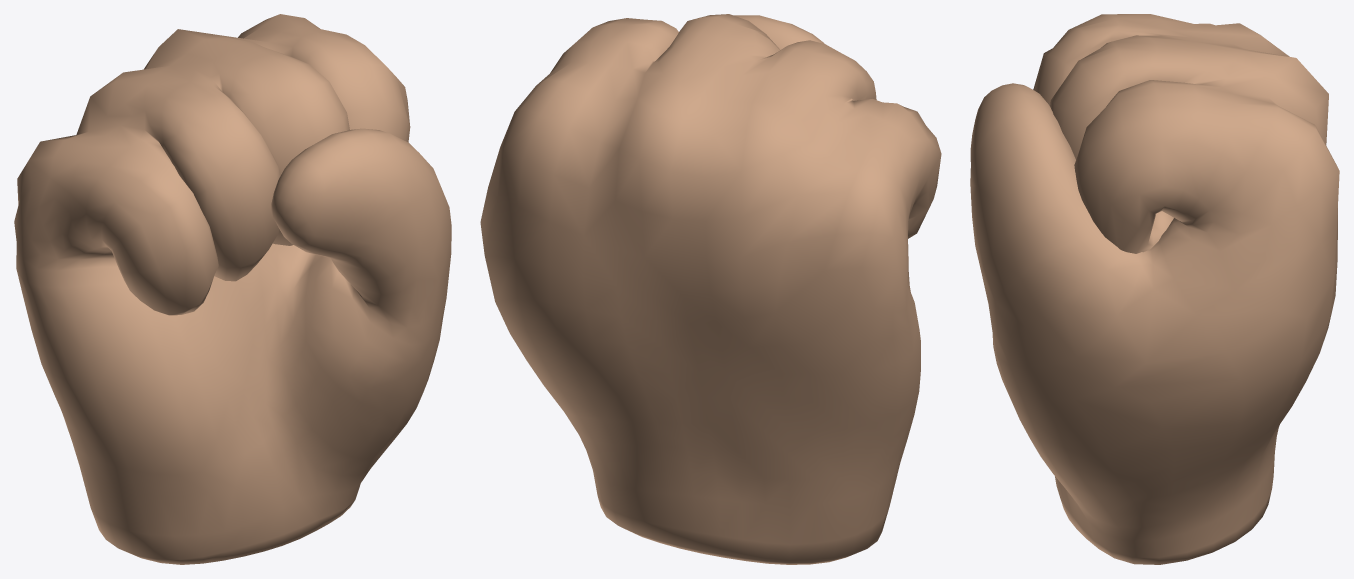
Rendered from item_fist.fbx.
3 renders of one model, left to right at view 1: azimuth 30°, elevation 25°; view 2: azimuth 150°, elevation 25°; view 3: azimuth 270°, elevation 25°, orthographic. The views are drawn at different scales.
Parts seen in each view (by area): view 1: item_fist; view 2: item_fist; view 3: item_fist.
Part boxes in pixels (box(x1,y1,x2,y2)): item_fist: box(14, 14, 451, 564); item_fist: box(480, 14, 941, 564); item_fist: box(970, 14, 1339, 564).
Bounding box in the file's own units: 1.06 × 1.21 × 0.8447.
